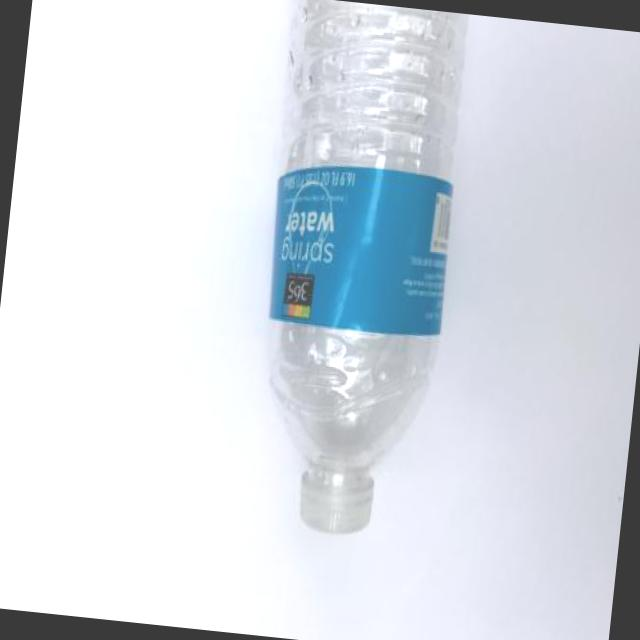Recycle: (236, 0, 478, 547)
